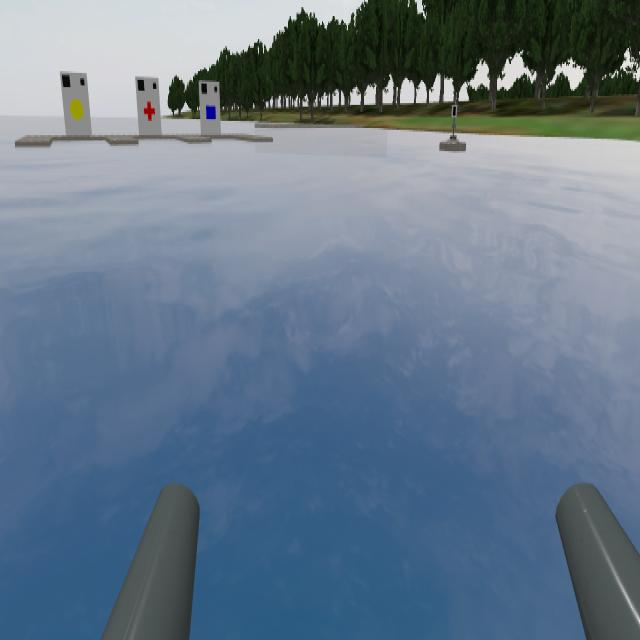black_pole: (446, 98, 464, 125)
